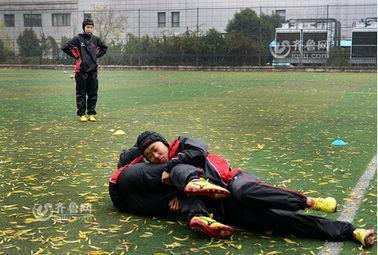Fall-Detected: (118, 121, 370, 244)
